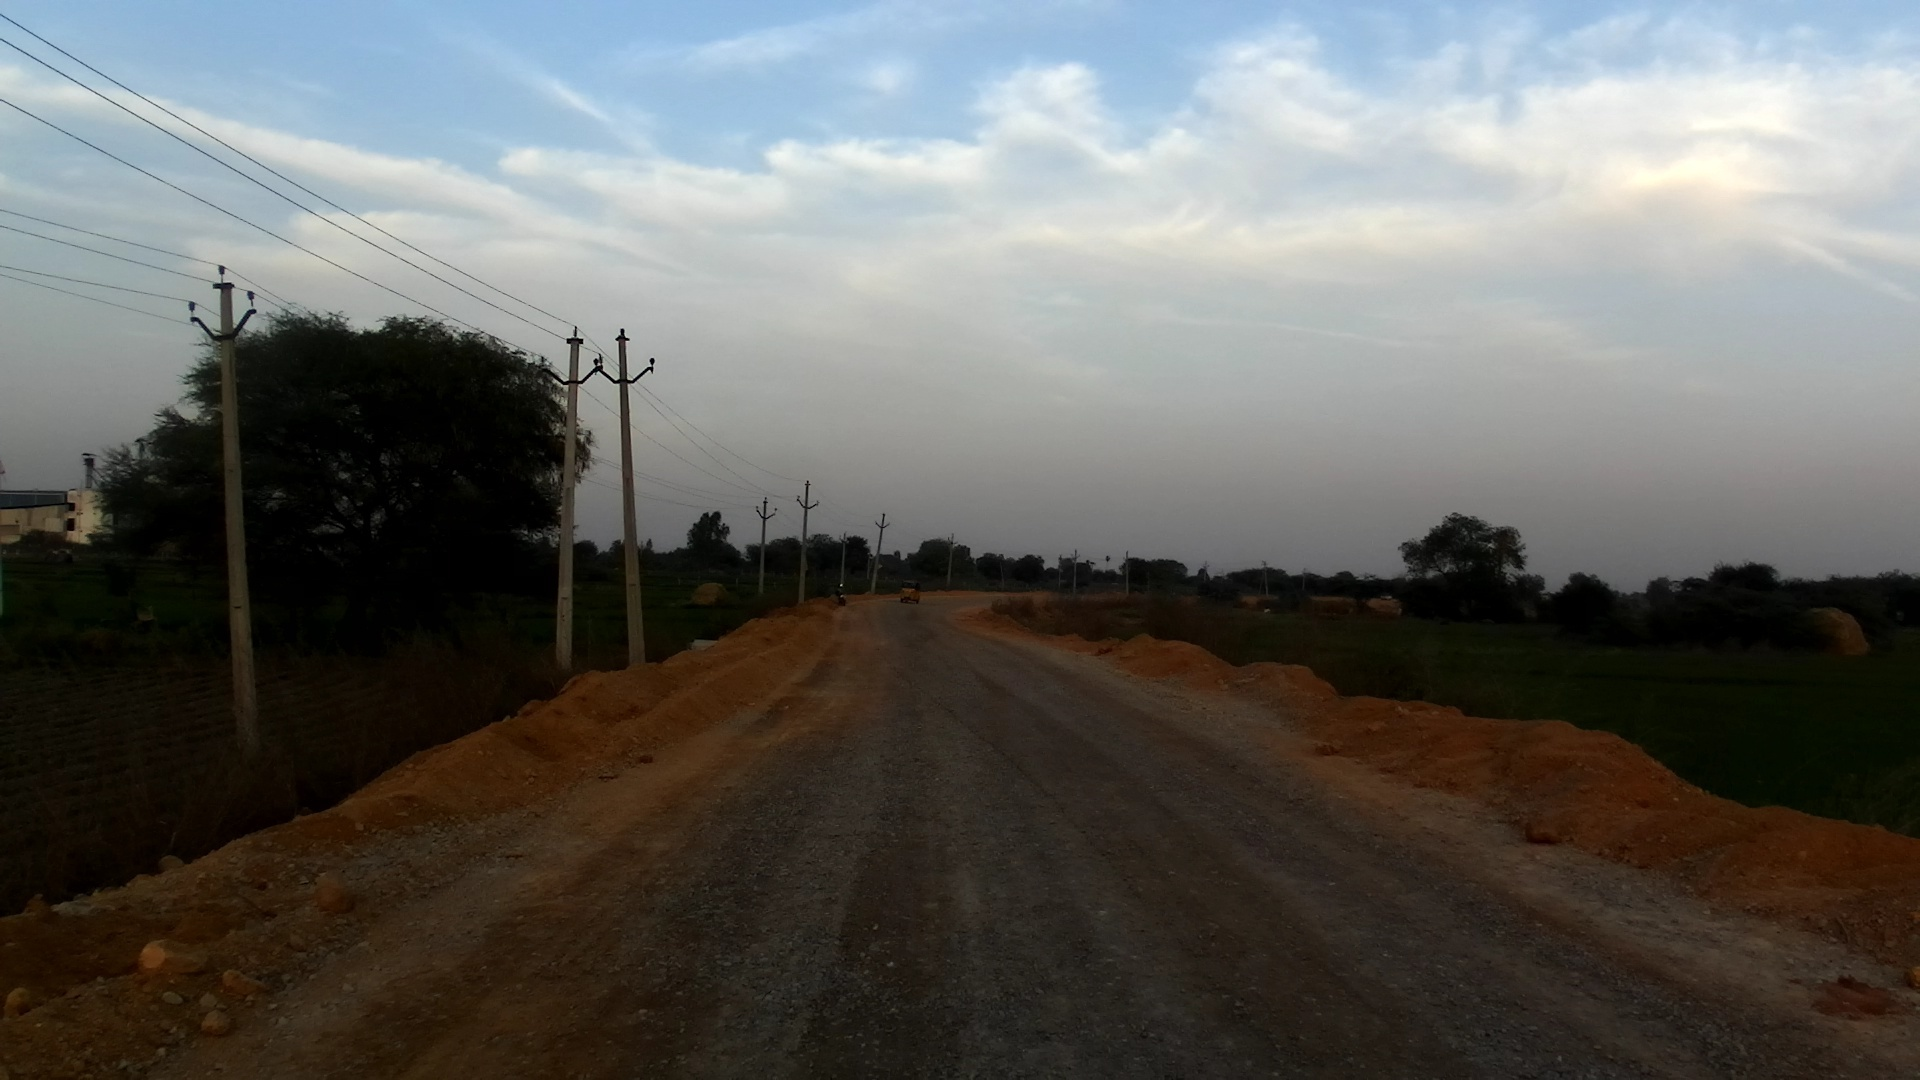autorickshaw: (898, 580, 919, 607)
motorcycle: (832, 582, 851, 607)
